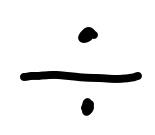div: (20, 27, 142, 116)
